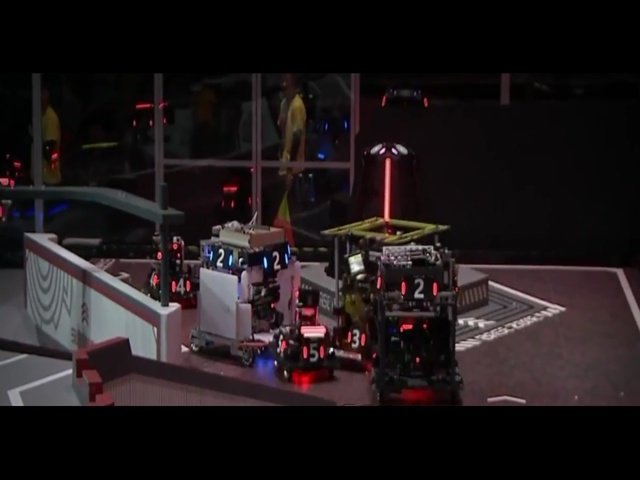bluePlate: (242, 191, 278, 218), (399, 336, 427, 365), (281, 115, 297, 137)
redPlate: (277, 348, 325, 384)
